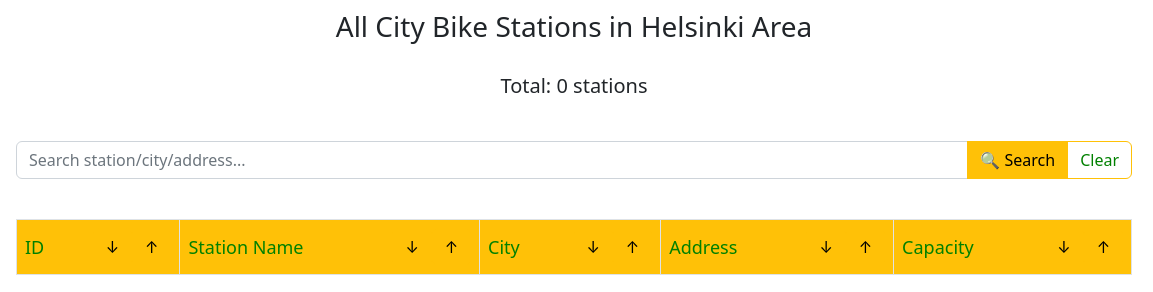
Test: test List stations page › able to type into the search field and click search button
Type "Kaivopuisto" into the field with placeholder "Search station/city/address...".
click(492, 160); type("Kaivopuisto")  # box [16, 141, 968, 179]
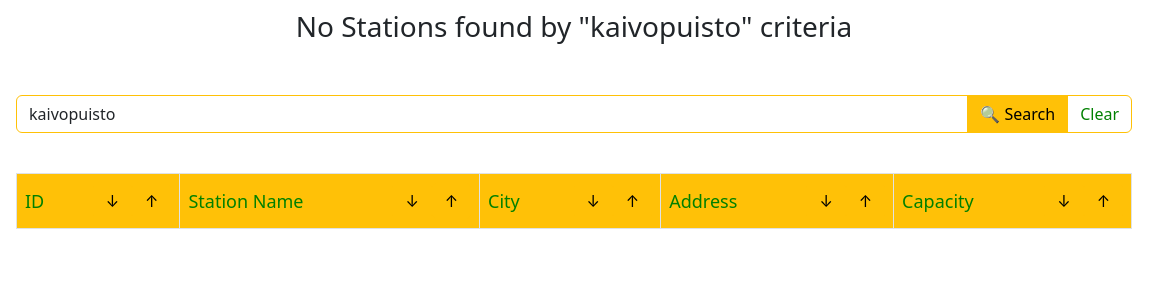
Click the button "🔍 Search".
click(1018, 114)  # box [967, 95, 1068, 133]
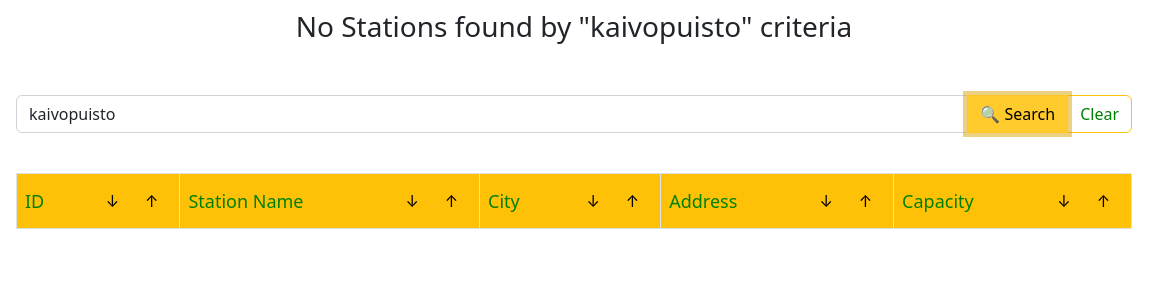
Click the button "Clear".
click(1100, 114)  # box [1067, 95, 1132, 133]
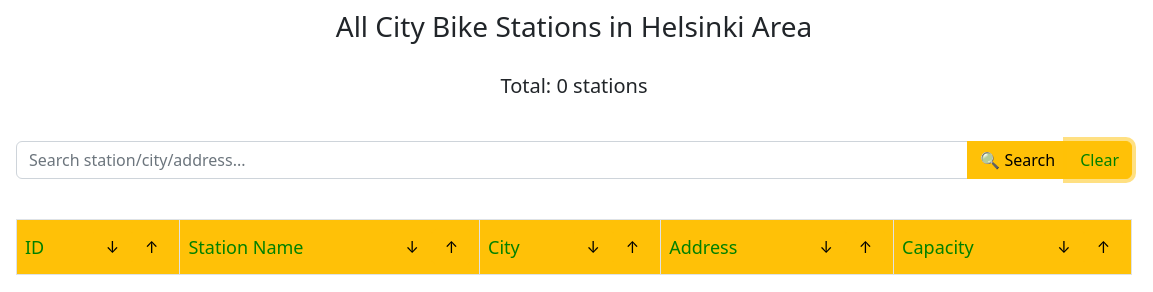
Now the field with placeholder "Search station/city/address..." is empty, box [16, 141, 968, 179]
